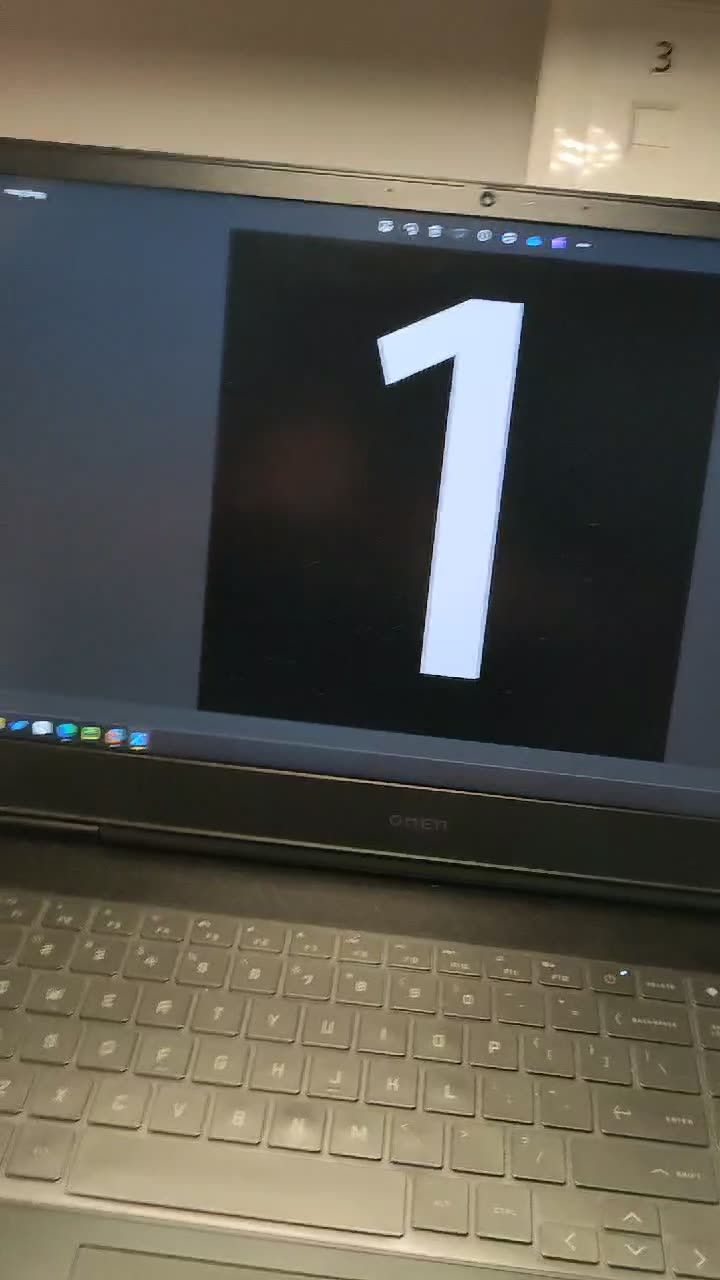one: (313, 265, 594, 699)
